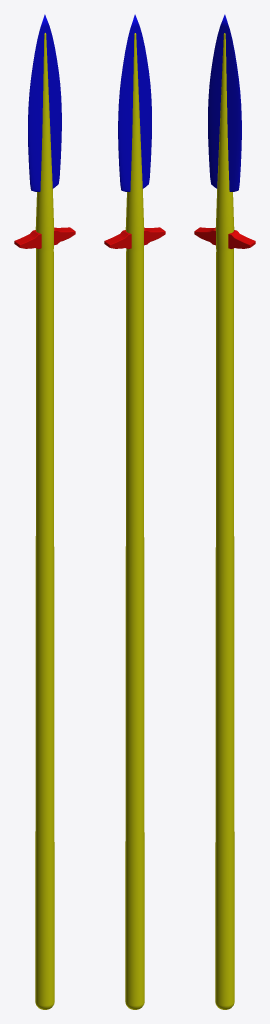
The model's file is Spear.fbx.
3 views of the same model, side by side, from view 1: azimuth 30°, elevation 25°; view 2: azimuth 210°, elevation 25°; view 3: azimuth 330°, elevation 25° (orthographic).
Parts seen in each view (by area): view 1: Spear; view 2: Spear; view 3: Spear.
Boxes of the visible parts, x1,y1,x2,y2 form: Spear: (14,14,75,1009); Spear: (104,14,165,1009); Spear: (194,14,255,1009).
Bounding box in the file's own units: 0.1508 × 2.55 × 0.0453.
